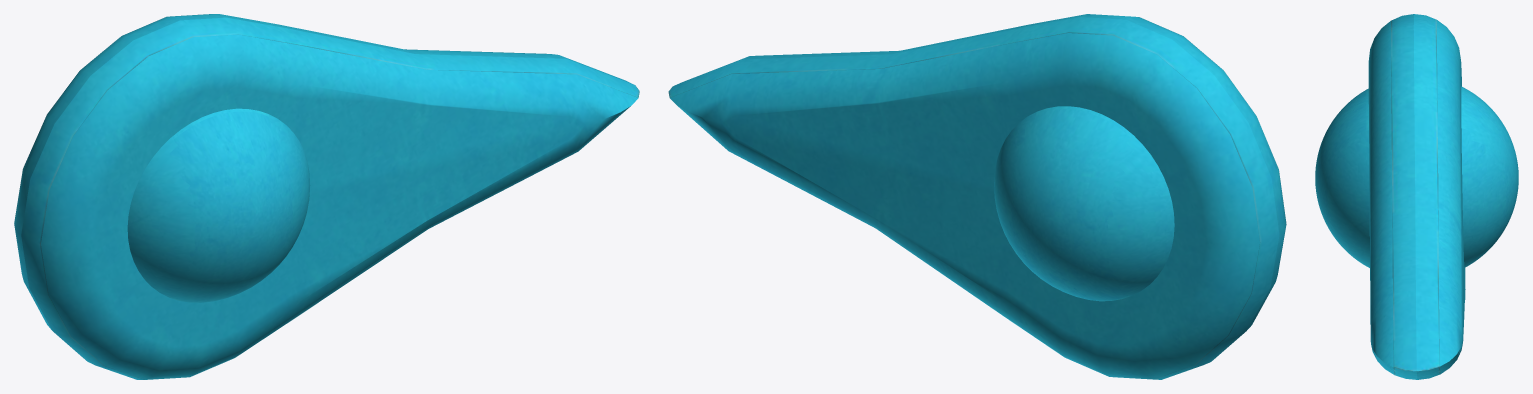
Rendered from pullIt.glb.
The picture shows the model from 3 angles, left to right: view 1: azimuth 30°, elevation 25°; view 2: azimuth 150°, elevation 25°; view 3: azimuth 270°, elevation 25°; orthographic projection. The views are drawn at different scales.
Visible parts, largest first — view 1: pullIt; view 2: pullIt; view 3: pullIt.
Boxes of the visible parts, left/top/right/bottom form: pullIt: left=14, top=14, right=639, bottom=379; pullIt: left=668, top=14, right=1286, bottom=379; pullIt: left=1315, top=14, right=1518, bottom=379.
Size of the model in its own units: 0.333 by 0.1845 by 0.111.
Materials: 1 (1 with a texture image).
